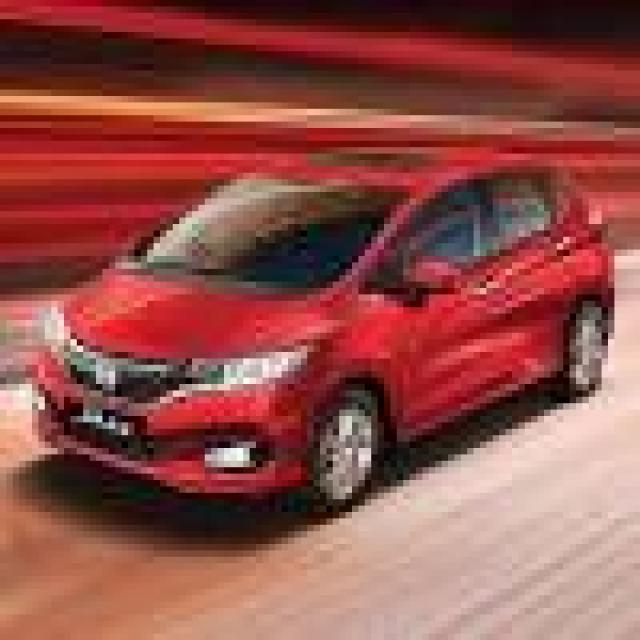car: (21, 158, 622, 526)
